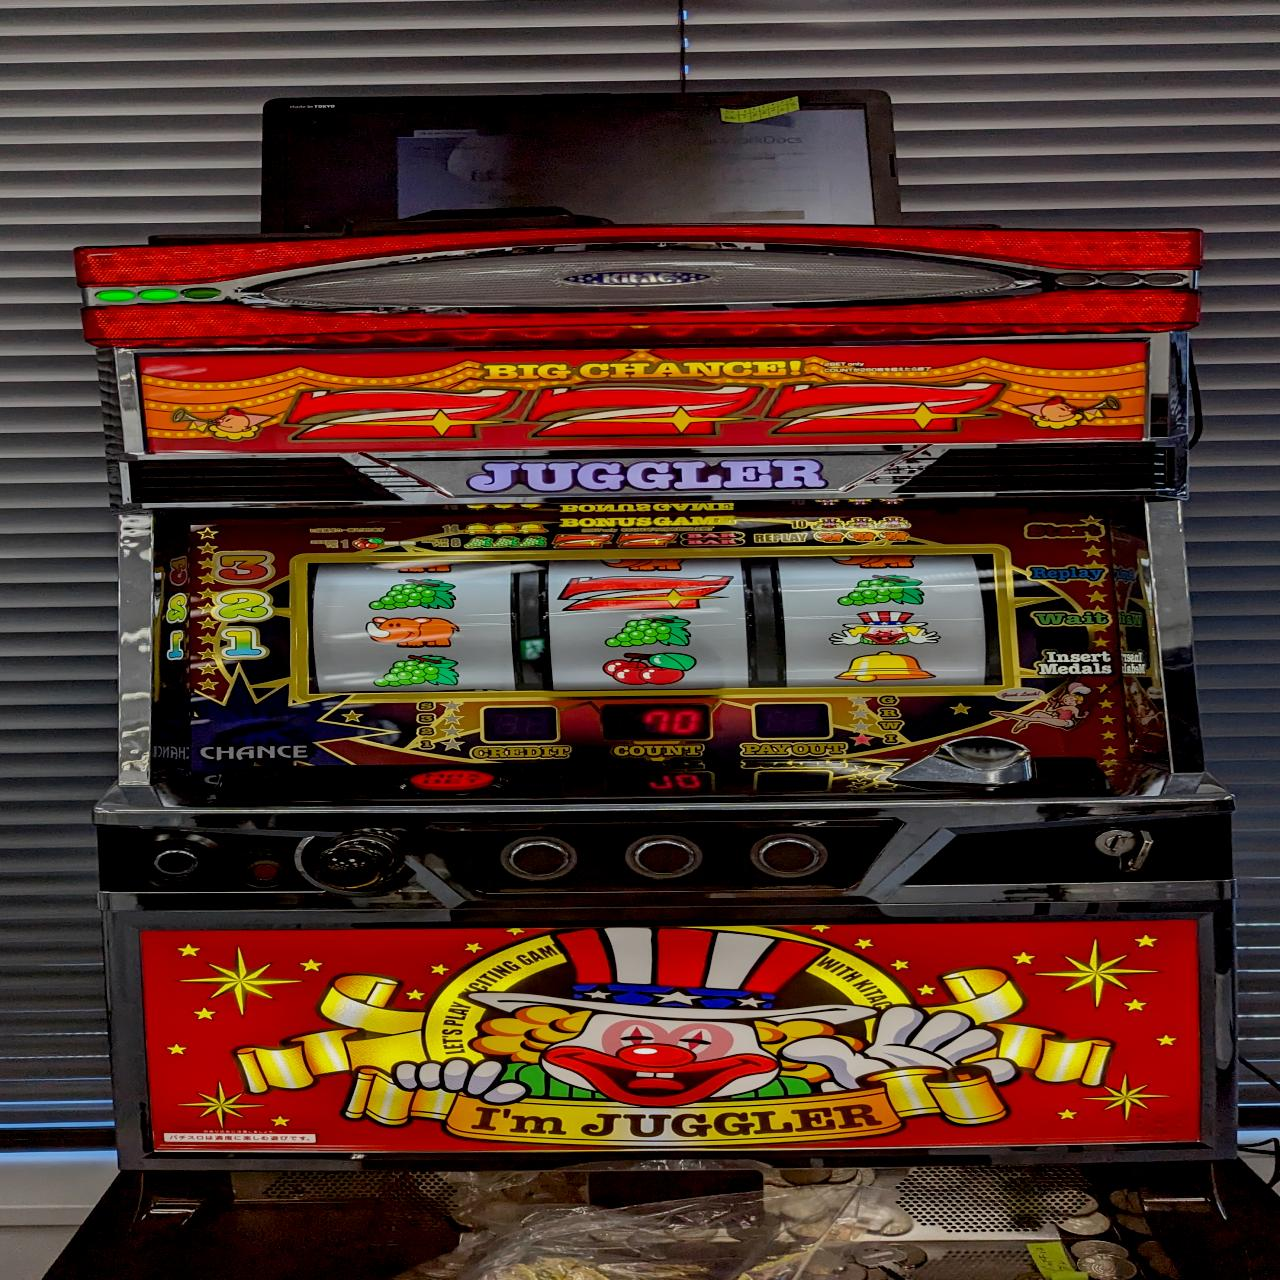7: (560, 576, 733, 612)
Display: (298, 551, 1014, 692)
bell: (832, 651, 935, 680)
cherry: (602, 652, 700, 685)
clown: (829, 610, 941, 645)
grape: (366, 577, 461, 612), (835, 574, 926, 606), (606, 614, 695, 646), (374, 655, 458, 686)
rhino: (365, 617, 459, 648)
